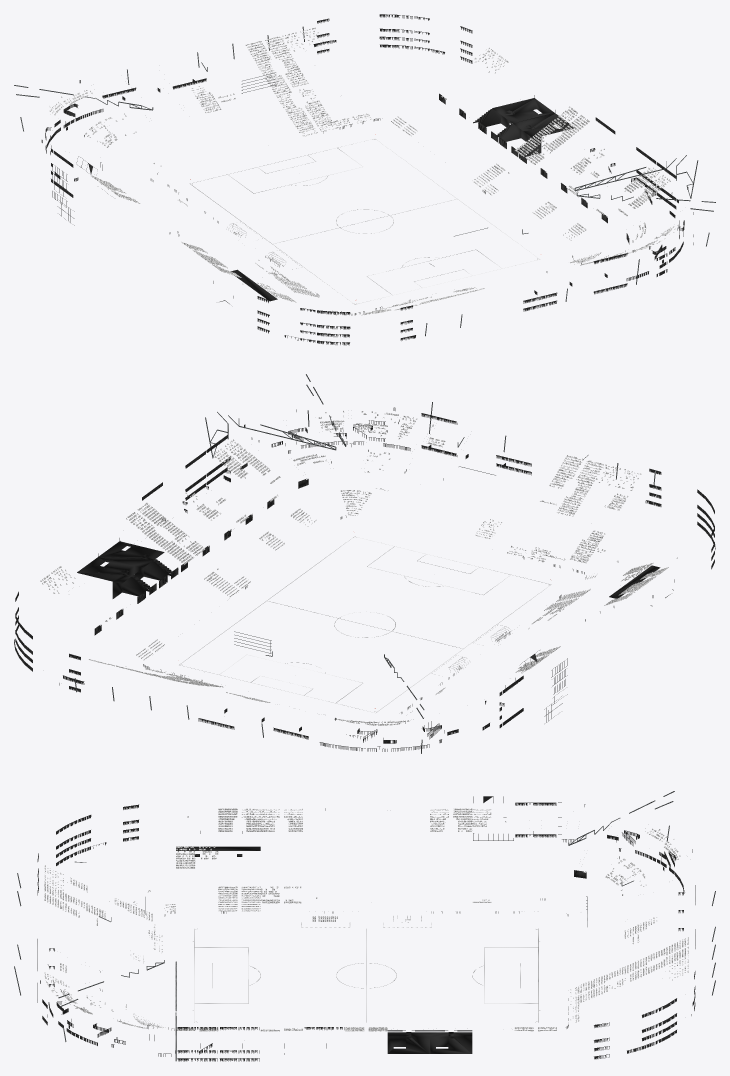
File: modern_stadium_part10.glb
3 views of the same model, one above another, from view 1: azimuth 30°, elevation 25°; view 2: azimuth 150°, elevation 25°; view 3: azimuth 270°, elevation 25° (orthographic). The views are drawn at different scales.
Visible parts, largest first — view 1: Material2.073+Material2.077, Material2.009+Material2.016+Material2.024, Material2.038, Material3.036; view 2: Material2.009+Material2.016+Material2.024, Material2.073+Material2.077, Material2.038, Material3.036; view 3: Material2.073+Material2.077, Material2.009+Material2.016+Material2.024, Material2.038, Material3.036.
Boxes of the visible parts, x1,y1,x2,y2 form: Material2.073+Material2.077: (49,27,680,315); Material2.009+Material2.016+Material2.024: (41,14,693,345); Material2.038: (14,26,715,336); Material3.036: (190,139,539,304); Material2.009+Material2.016+Material2.024: (14,407,715,751); Material2.073+Material2.077: (40,411,677,725); Material2.038: (74,374,655,753); Material3.036: (179,536,551,712); Material2.073+Material2.077: (44,808,688,1031); Material2.009+Material2.016+Material2.024: (37,796,695,1061); Material2.038: (14,791,715,1061); Material3.036: (193,922,539,1022).
Size of the model in its own units: 179 by 28 by 216.
8 materials, 4 textured.
